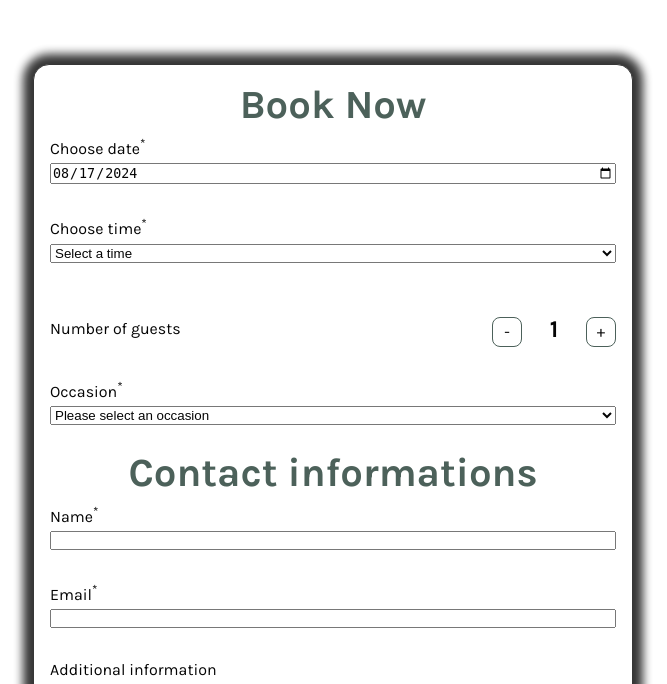
Test case: name is too short
Type "xx" into the field with test id "input-name".
click(333, 540); type("xx")  # box [50,531,616,550]
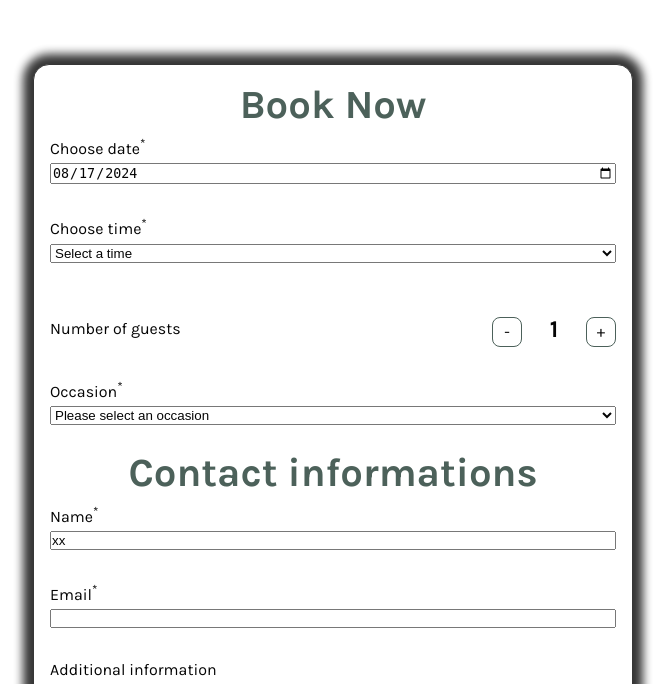
Leave the field with test id "input-name", box [50,531,616,550]
(page scrolled)
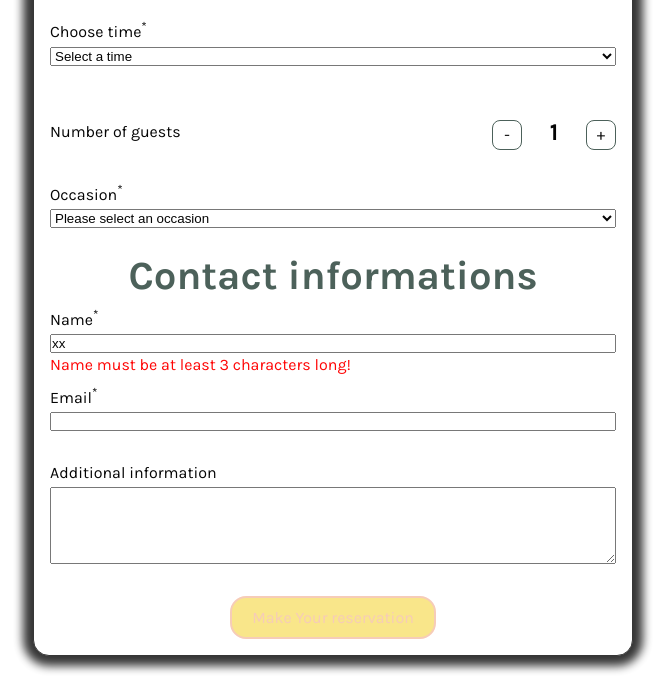
Expected: the text "Name must be at least 3 characters long!" is shown, [50,355,351,374]
Expected: the button "Make Your reservation" is disabled, [230,596,436,639]
